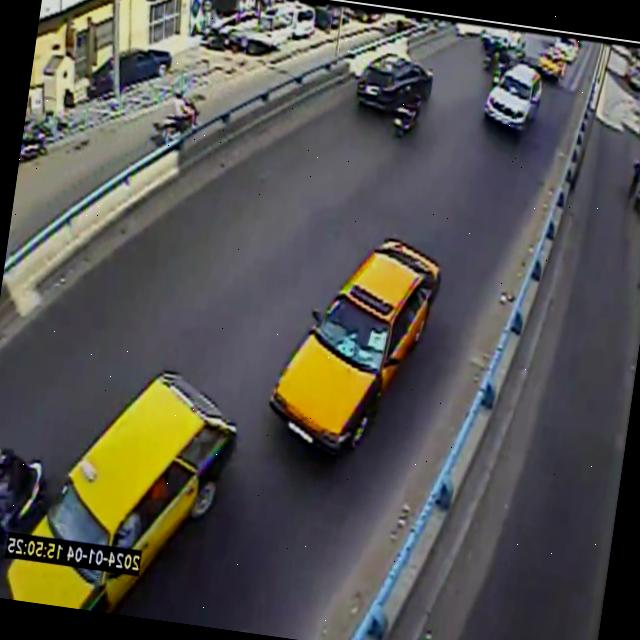car: (7, 374, 238, 613), (270, 239, 441, 453), (357, 53, 434, 113), (485, 63, 542, 130), (538, 46, 567, 81)
